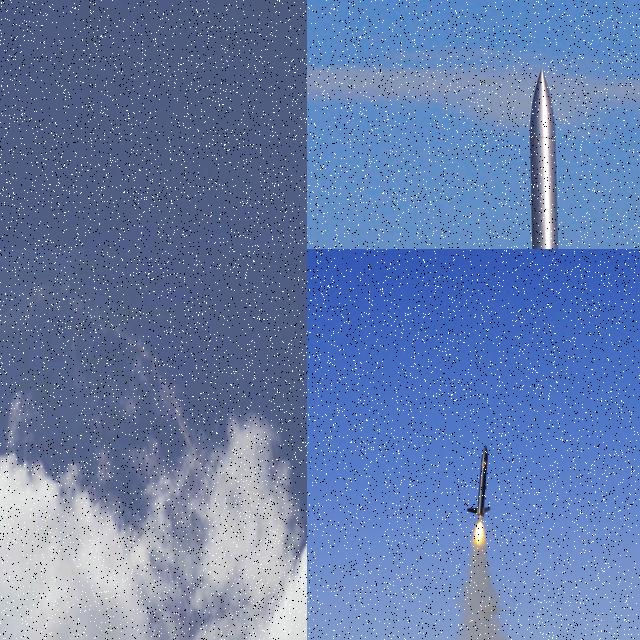Rocket: (514, 68, 579, 249), (468, 444, 492, 518), (220, 522, 223, 528)
